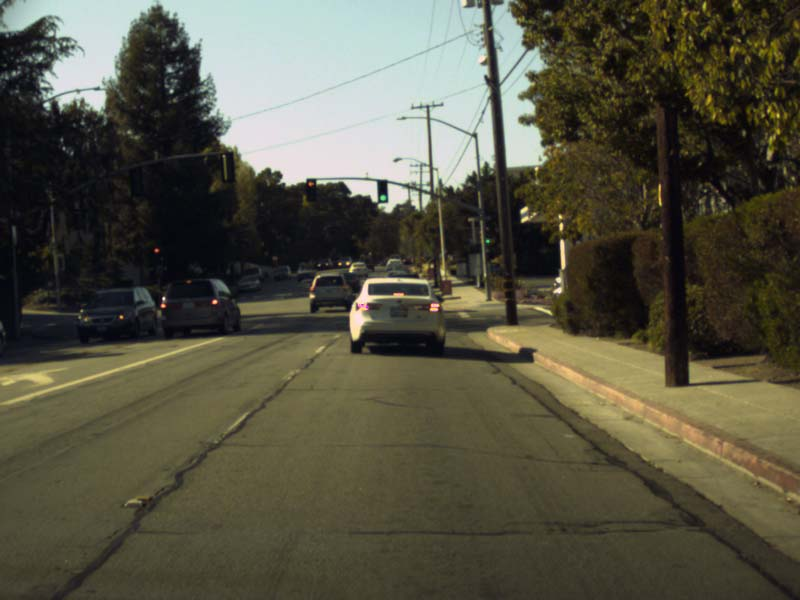Green: (376, 179, 387, 202)
Red: (305, 178, 316, 200), (151, 246, 160, 266)
